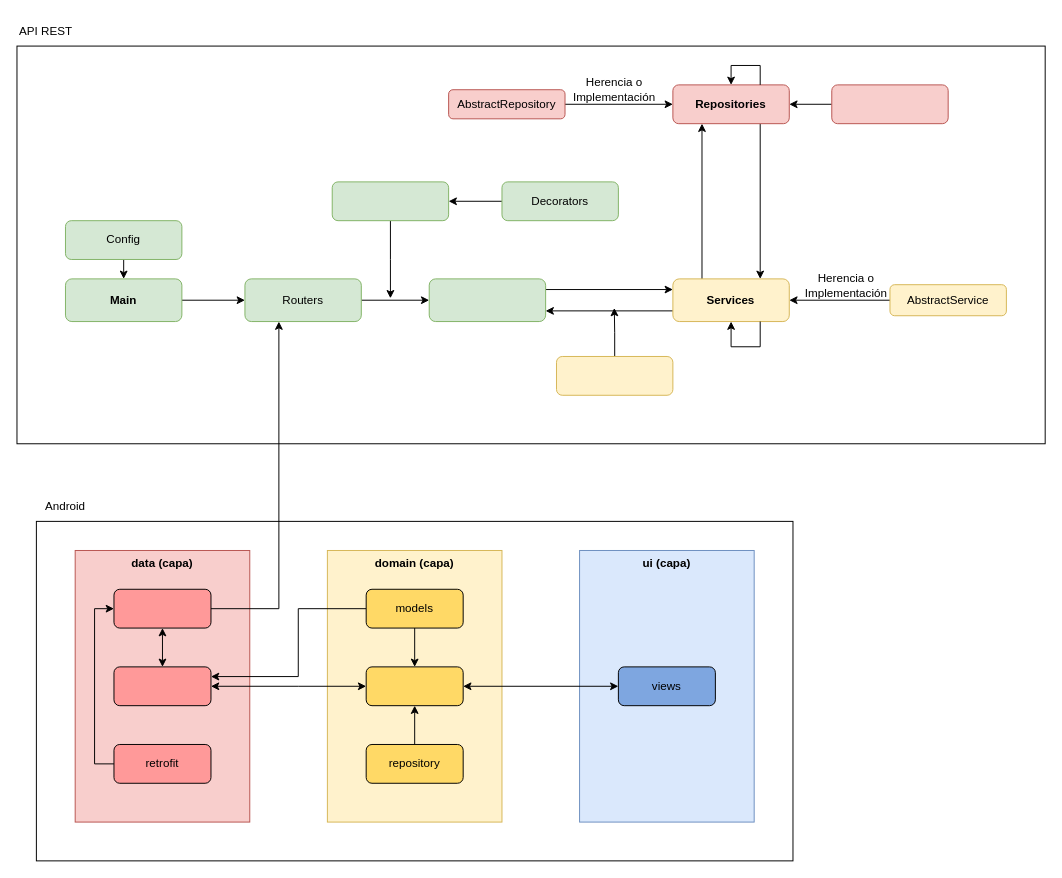
This 1062x878 diagram has some shape labels left out. Here are the shapes that lost their labels. From the top down, the centre of each, then its label:
(889,104): Models | Entities
(390,201): Middlewares
(487,300): Controllers
(614,375): Schemas | DAO
(162,608): service
(162,686): repositoryImpl
(414,686): useCase
